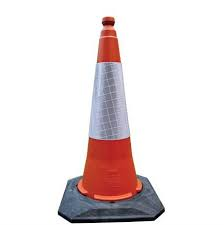cones: (58, 19, 165, 221)
